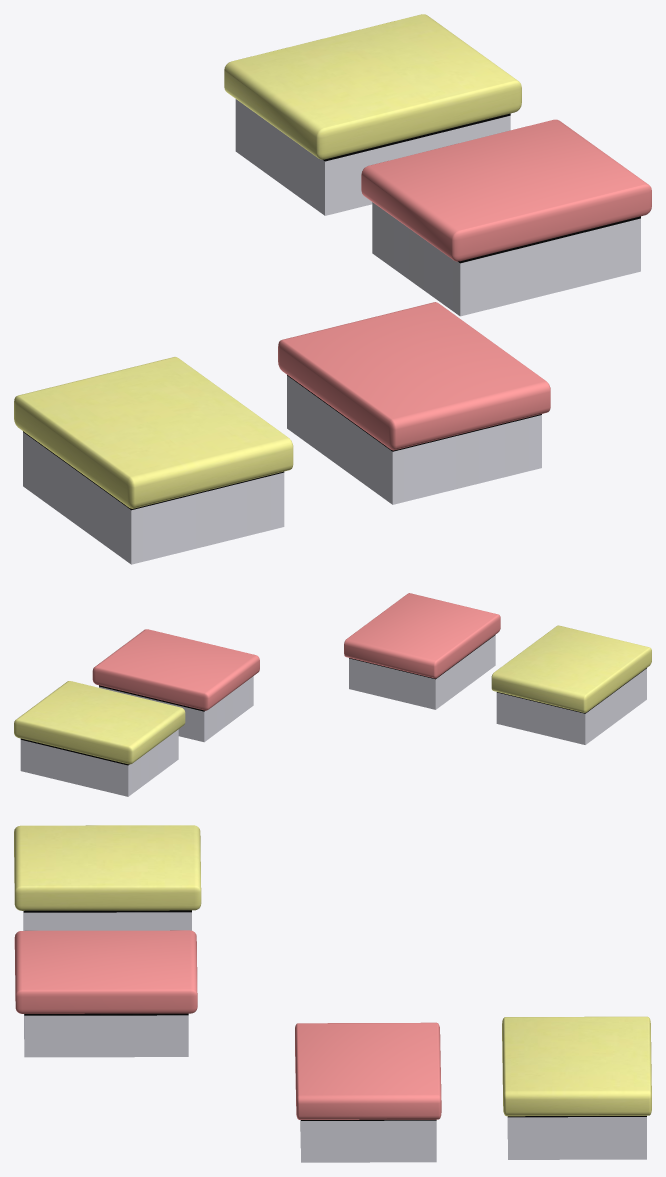
File: sillas.obj
3 renders of one model, top to bottom at view 1: azimuth 30°, elevation 25°; view 2: azimuth 150°, elevation 25°; view 3: azimuth 270°, elevation 25°, orthographic. The views are drawn at different scales.
Parts seen in each view (by area): view 1: silla_y_pCube8, pasted__silla_r_pCube8 group41, silla_r_pCube8, pasted__silla_y_pCube8 group40; view 2: pasted__silla_y_pCube8 group40, silla_y_pCube8, silla_r_pCube8, pasted__silla_r_pCube8 group41; view 3: silla_r_pCube8, pasted__silla_y_pCube8 group40, pasted__silla_r_pCube8 group41, silla_y_pCube8.
Boxes of the visible parts, x1,y1,x2,y2 form: silla_y_pCube8: [14, 357, 293, 564]; pasted__silla_r_pCube8 group41: [361, 119, 651, 316]; silla_r_pCube8: [278, 302, 550, 504]; pasted__silla_y_pCube8 group40: [224, 14, 521, 215]; pasted__silla_y_pCube8 group40: [14, 681, 185, 796]; silla_y_pCube8: [491, 625, 651, 744]; silla_r_pCube8: [344, 593, 500, 709]; pasted__silla_r_pCube8 group41: [92, 629, 259, 742]; silla_r_pCube8: [14, 930, 197, 1057]; pasted__silla_y_pCube8 group40: [502, 1016, 651, 1159]; pasted__silla_r_pCube8 group41: [295, 1022, 441, 1162]; silla_y_pCube8: [14, 825, 201, 930].
Bounding box in the file's own units: 4.03 × 0.5354 × 4.03.
16 materials, 12 textured.
